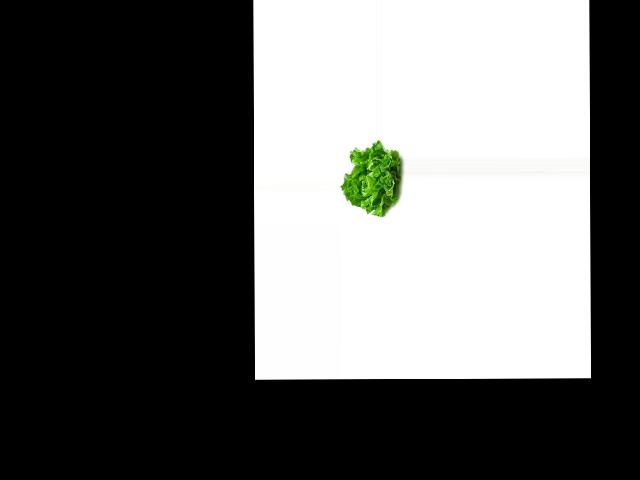lettuce: (341, 141, 403, 215)
